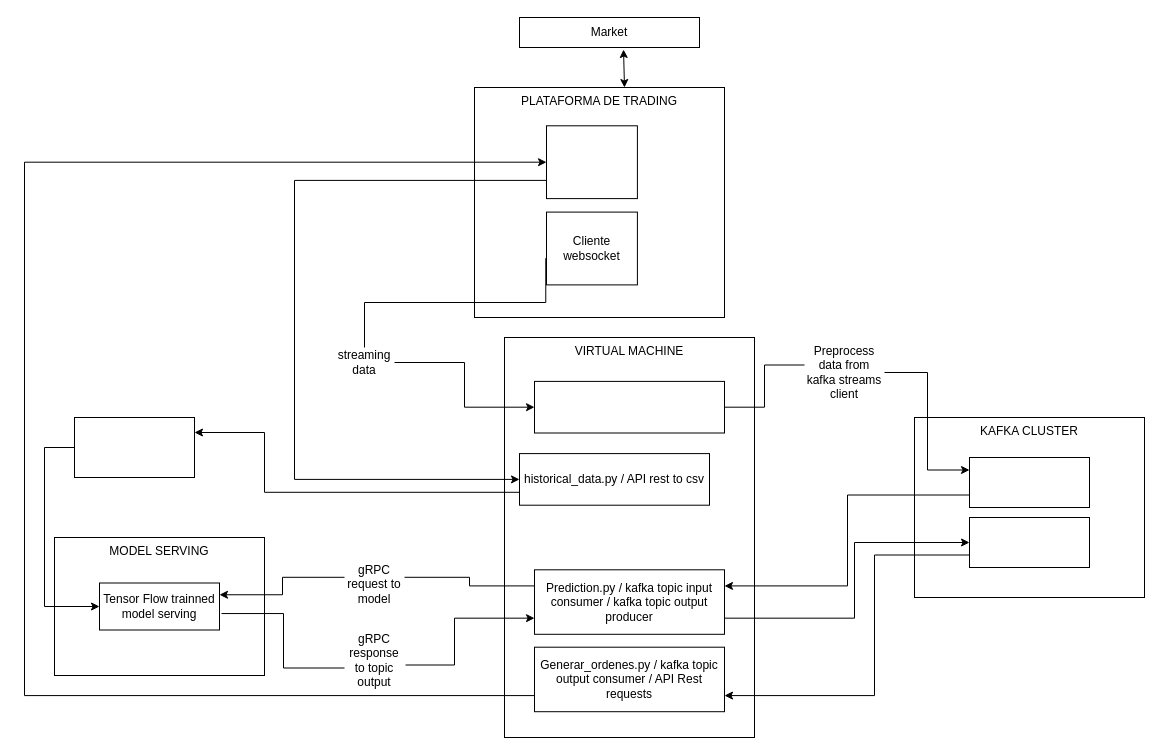
Some shapes in this 1162 by 755 pixel diagram are drawn without their labels. Each missing label, with the centre of its shape:
"API REST" belongs at (x=591, y=162).
"Google storage" belongs at (x=134, y=447).
"Server.py / Kafka Streams client / producer of topic input" belongs at (x=629, y=406).
"Topic input" belongs at (x=1029, y=482).
"Topic output" belongs at (x=1029, y=542).
